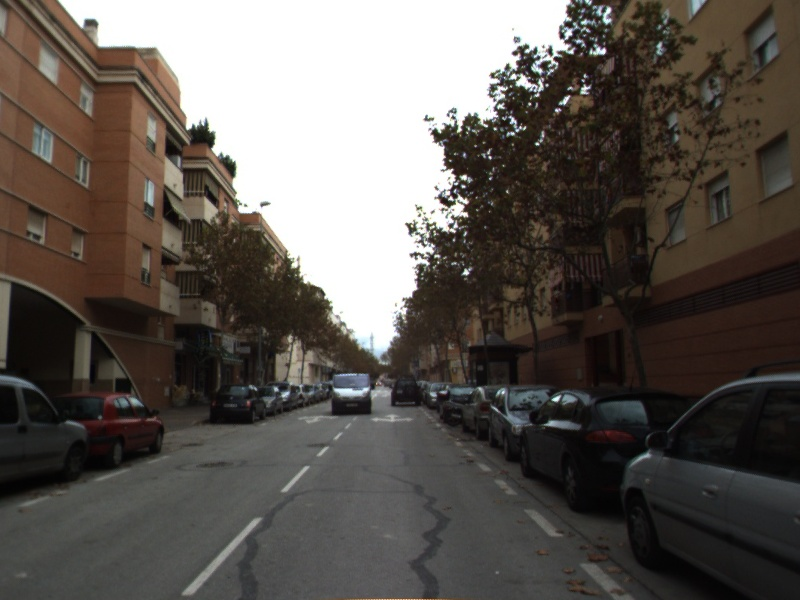STRAIGHT_LEFT_RIGHT: (368, 411, 416, 424)
